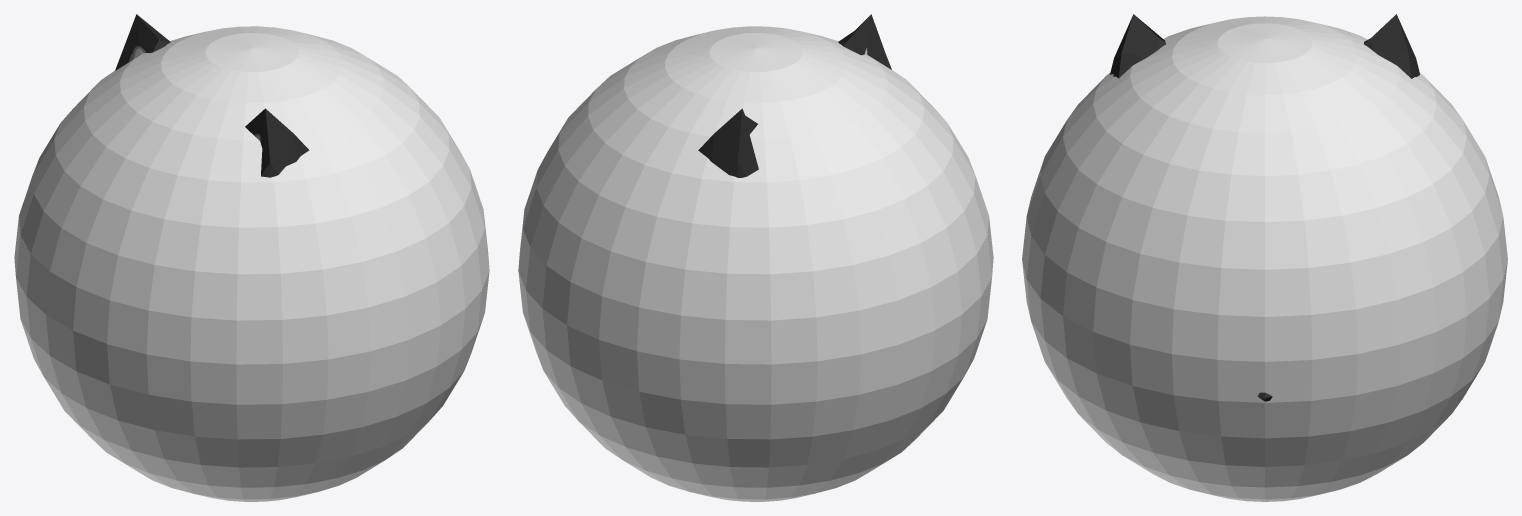
The model's file is CatBall.fbx.
3 views of the same model, side by side, from view 1: azimuth 30°, elevation 25°; view 2: azimuth 150°, elevation 25°; view 3: azimuth 270°, elevation 25° (orthographic). The views are drawn at different scales.
Parts seen in each view (by area): view 1: Sphere, Sphere.001; view 2: Sphere, Sphere.001; view 3: Sphere, Sphere.001.
Boxes of the visible parts, x1,y1,x2,y2 form: Sphere: (14,26,489,501); Sphere.001: (115,14,309,177); Sphere: (518,26,993,501); Sphere.001: (698,14,891,177); Sphere: (1022,16,1507,501); Sphere.001: (1110,14,1419,401).
Bounding box in the file's own units: 250 × 249 × 249.
3 materials, 2 textured.
